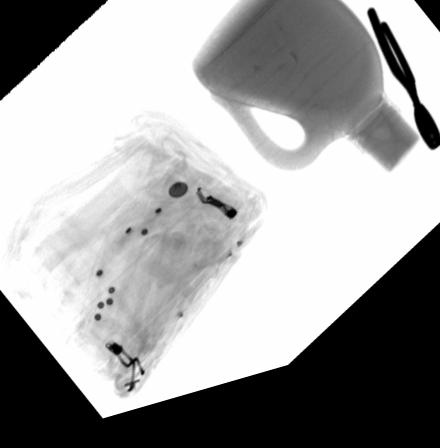Pliers: (366, 24, 440, 178)
